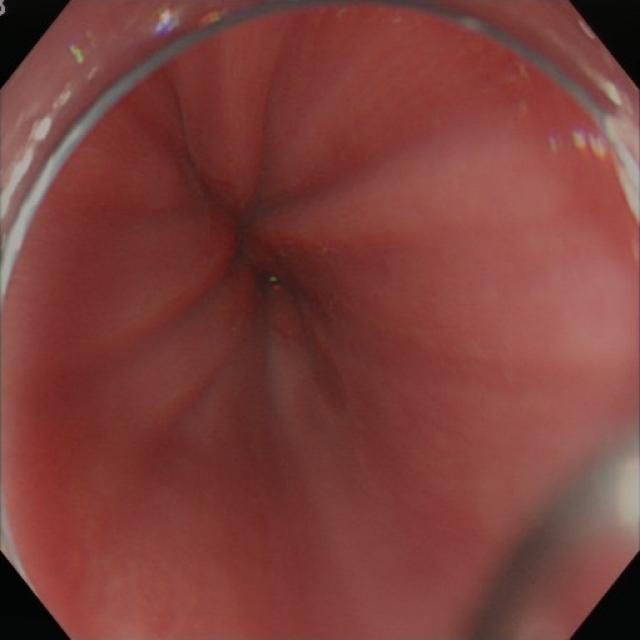I: (158, 135, 366, 389)
U: (2, 83, 74, 298), (596, 70, 640, 221), (602, 457, 640, 533), (570, 126, 614, 161), (155, 4, 185, 36)
